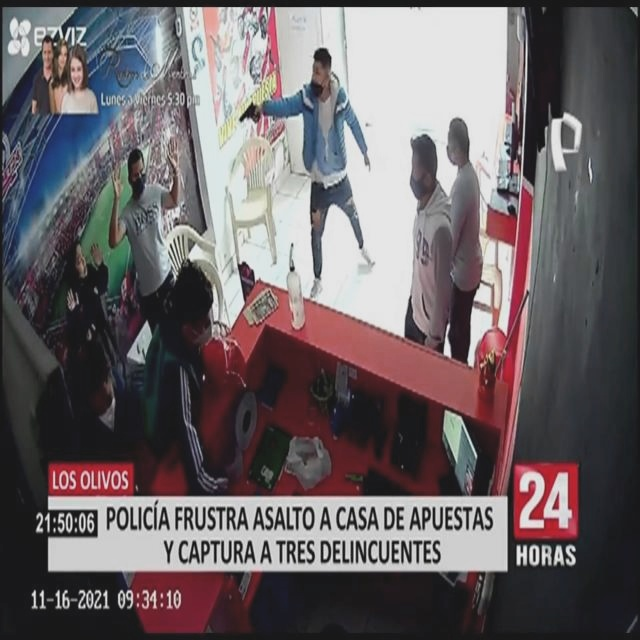gun: (232, 92, 268, 136)
